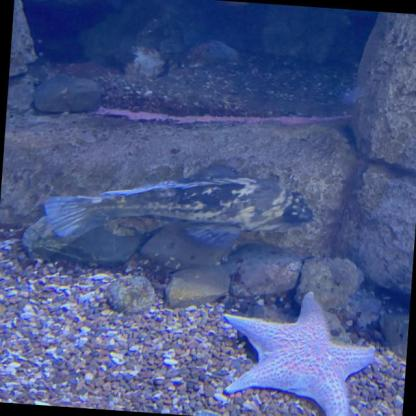fish: (40, 164, 330, 253)
starfish: (202, 283, 386, 415)
